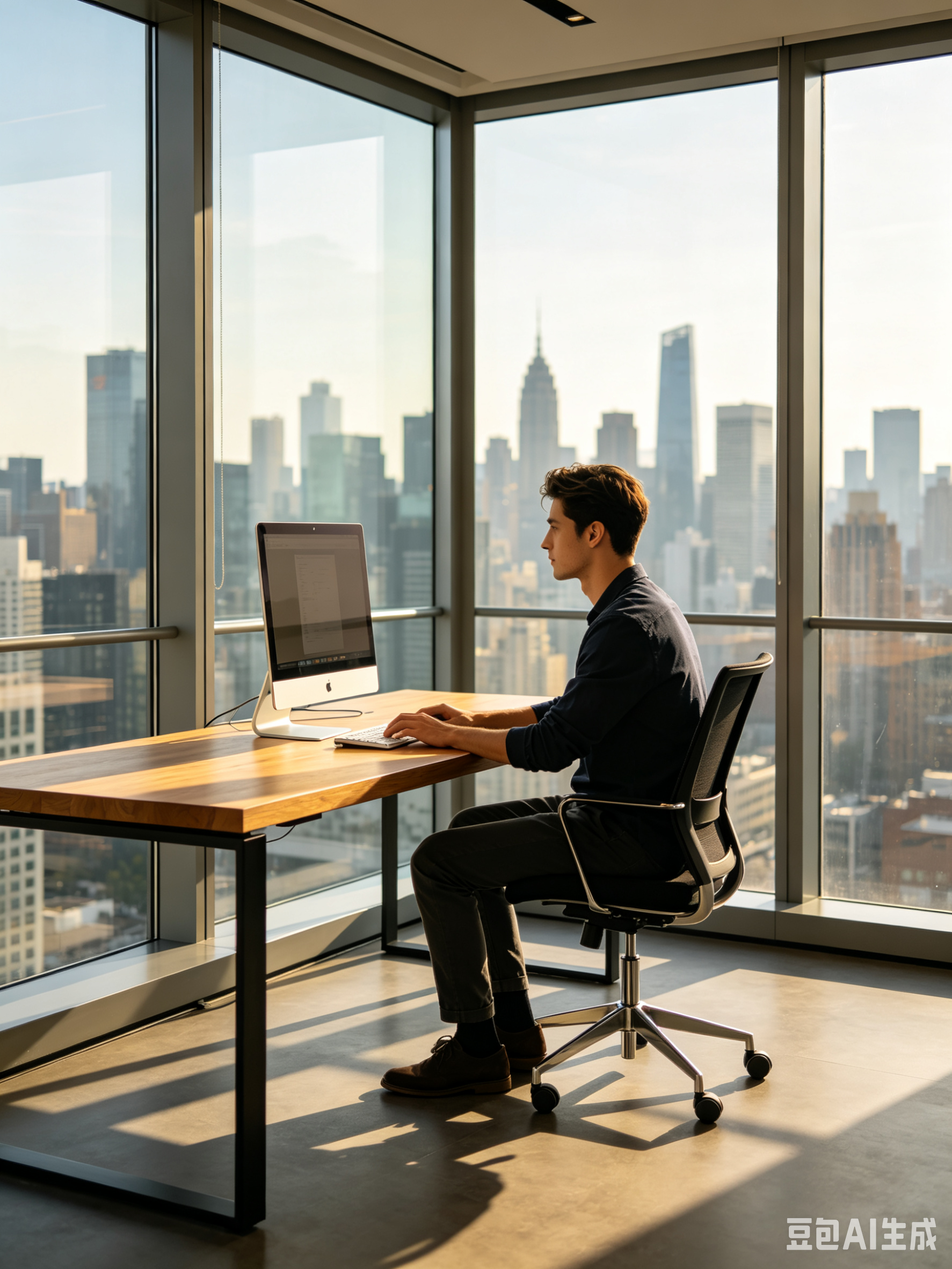sitting_good: (389, 479, 695, 1054)
